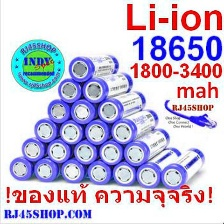battery: (160, 145, 207, 193), (134, 144, 182, 190), (67, 89, 123, 128), (57, 106, 111, 146), (31, 108, 84, 148), (80, 68, 137, 104), (109, 105, 160, 145), (64, 48, 122, 83), (121, 127, 170, 167), (82, 107, 129, 147), (112, 145, 156, 186), (85, 147, 130, 187), (18, 124, 63, 164), (45, 128, 91, 167), (45, 90, 97, 124), (94, 91, 149, 123), (31, 144, 76, 183), (73, 133, 120, 168), (98, 130, 139, 168), (55, 76, 108, 105), (58, 147, 98, 185), (8, 149, 50, 183)
